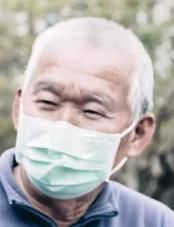OK: (22, 68, 126, 200)
